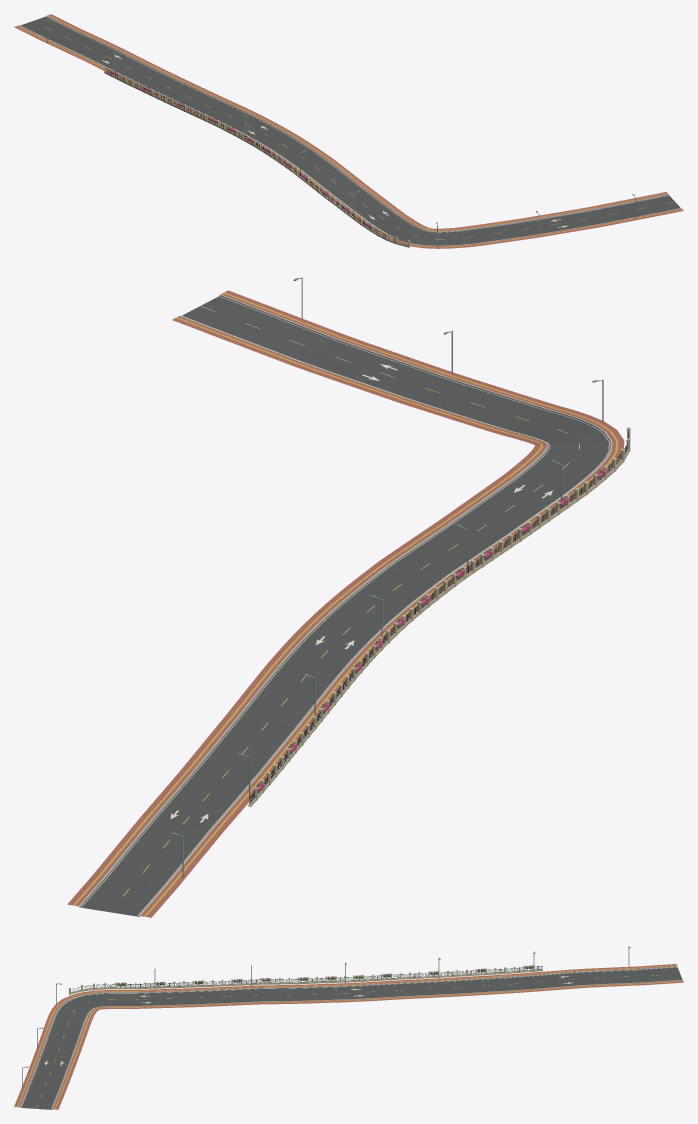
Rendered from infra-road-05.glb.
The picture shows the model from 3 angles, top to bottom: view 1: azimuth 30°, elevation 25°; view 2: azimuth 150°, elevation 25°; view 3: azimuth 270°, elevation 25°; orthographic projection. The views are drawn at different scales.
Parts seen in each view (by area): view 1: infra-road-05; view 2: infra-road-05; view 3: infra-road-05.
Part boxes in pixels (left/top/right/bottom): infra-road-05: left=14, top=14, right=683, bottom=248; infra-road-05: left=67, top=277, right=630, bottom=917; infra-road-05: left=14, top=946, right=683, bottom=1109.
Bounding box in the file's own units: 107 × 10.28 × 208.
Materials: 12 (1 with a texture image).
